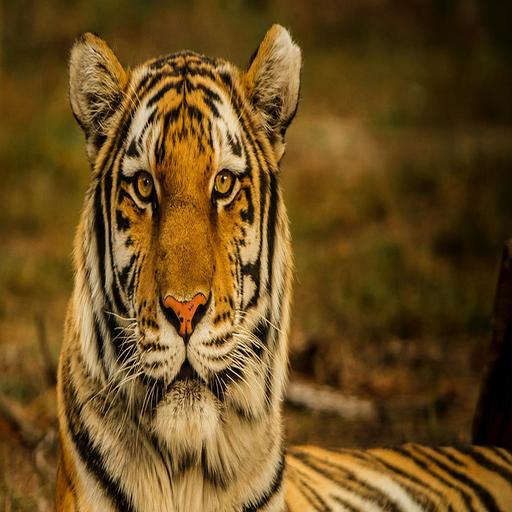Tiger: (43, 22, 512, 512)
